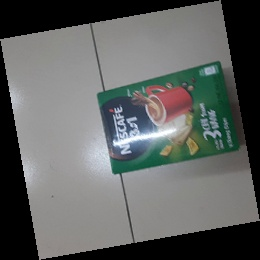Nes Rang: (96, 60, 243, 178)
